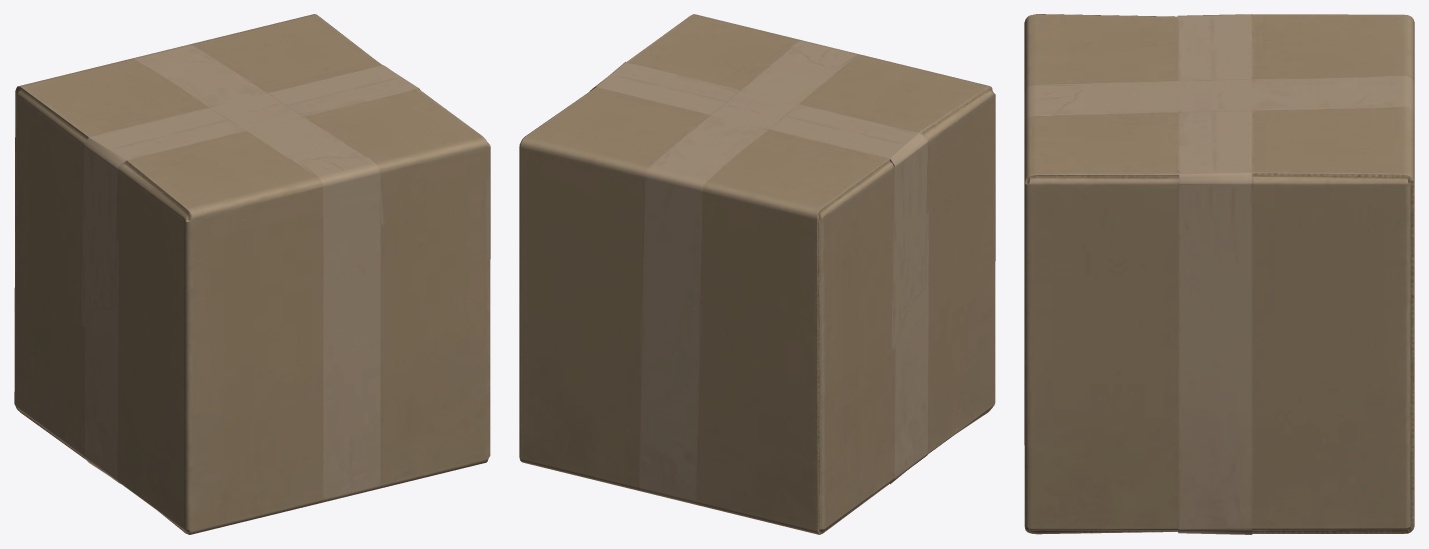
File: box_cardboard_b01.glb
3 renders of one model, left to right at view 1: azimuth 30°, elevation 25°; view 2: azimuth 150°, elevation 25°; view 3: azimuth 270°, elevation 25°, orthographic. The views are drawn at different scales.
Visible parts, largest first — view 1: sm_box_b01_mesh_00; view 2: sm_box_b01_mesh_00; view 3: sm_box_b01_mesh_00.
Part boxes in pixels (x1,y1,x2,y2): sm_box_b01_mesh_00: [14, 14, 490, 534]; sm_box_b01_mesh_00: [519, 14, 995, 534]; sm_box_b01_mesh_00: [1024, 14, 1414, 534].
Bounding box in the file's own units: 0.5103 × 0.5207 × 0.5099.
1 material, 1 textured.
